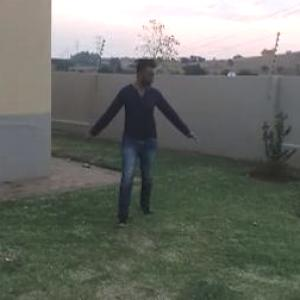land: (84, 56, 196, 230)
